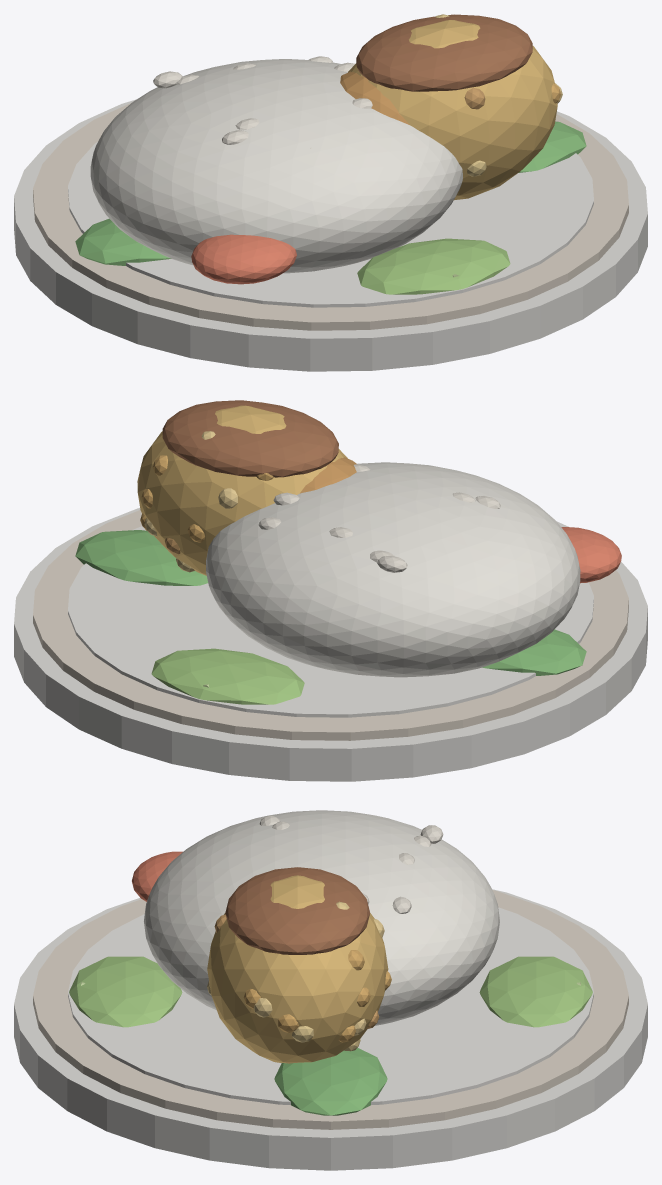
The model's file is com_ga_bbq.glb.
3 renders of one model, top to bottom at view 1: azimuth 30°, elevation 25°; view 2: azimuth 150°, elevation 25°; view 3: azimuth 270°, elevation 25°, orthographic.
Visible parts, largest first — view 1: obj_0003, obj_0000, obj_0001, obj_0002, obj_0034, obj_0062, obj_0070, obj_0076, obj_0072, obj_0068, obj_0035; view 2: obj_0003, obj_0000, obj_0002, obj_0001, obj_0034, obj_0062, obj_0074, obj_0068, obj_0072, obj_0076, obj_0035; view 3: obj_0003, obj_0000, obj_0002, obj_0001, obj_0034, obj_0062, obj_0074, obj_0070, obj_0068, obj_0076.
Part boxes in pixels (x1,y1,x2,y2): obj_0003: (90, 59, 462, 273); obj_0000: (14, 99, 647, 371); obj_0001: (33, 103, 628, 330); obj_0002: (68, 142, 593, 307); obj_0034: (348, 20, 557, 200); obj_0062: (356, 14, 532, 91); obj_0070: (357, 238, 510, 294); obj_0076: (191, 234, 296, 284); obj_0072: (75, 218, 171, 265); obj_0068: (518, 121, 586, 172); obj_0035: (340, 71, 409, 124); obj_0003: (206, 462, 580, 677); obj_0000: (14, 508, 647, 781); obj_0002: (68, 526, 593, 717); obj_0001: (33, 510, 628, 740); obj_0034: (137, 405, 347, 575); obj_0062: (162, 400, 338, 477); obj_0074: (151, 648, 304, 704); obj_0068: (75, 530, 208, 585); obj_0072: (482, 629, 586, 675); obj_0076: (561, 527, 621, 583); obj_0035: (300, 457, 356, 493); obj_0003: (144, 810, 499, 1025); obj_0000: (14, 889, 647, 1170); obj_0002: (68, 907, 593, 1104); obj_0001: (33, 890, 628, 1129); obj_0034: (207, 875, 388, 1063); obj_0062: (225, 867, 369, 954); obj_0074: (479, 956, 592, 1027); obj_0070: (69, 956, 182, 1027); obj_0068: (274, 1047, 387, 1115); obj_0076: (132, 851, 182, 901).
Bounding box in the file's own units: 2.1 × 0.72 × 2.1.
